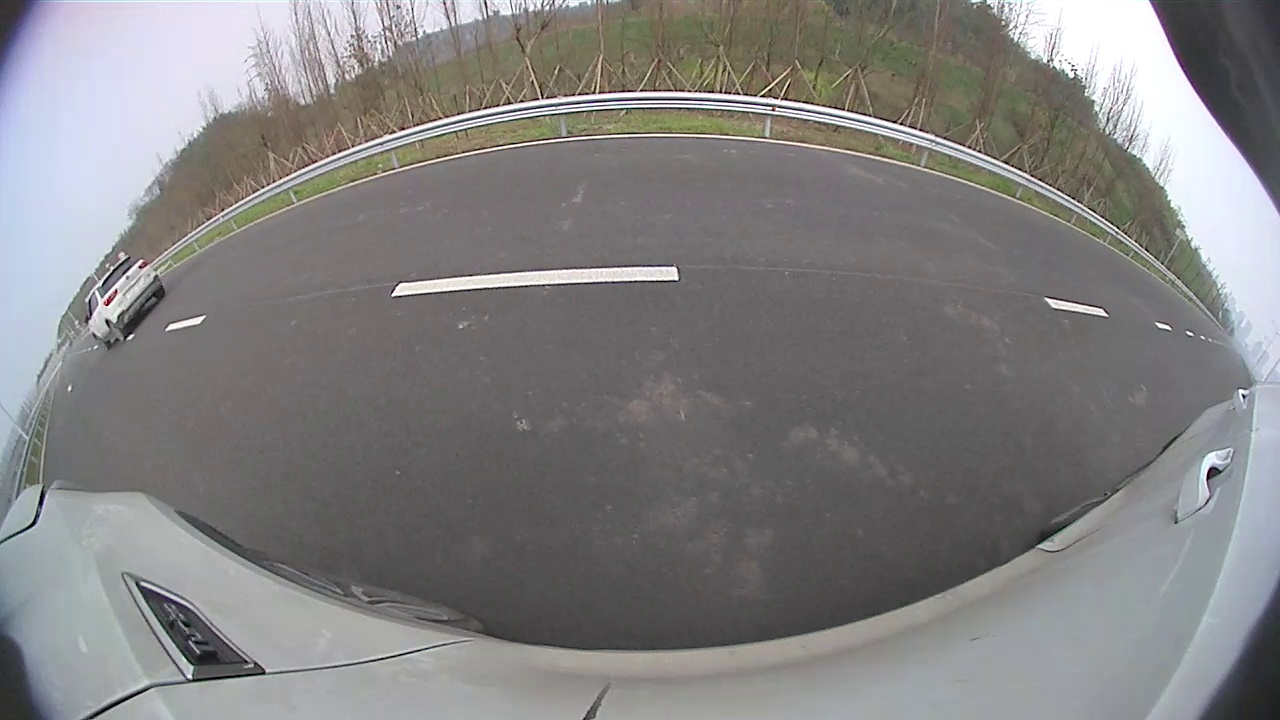car: (688, 140, 792, 203)
front: (690, 170, 704, 194)
rear: (716, 171, 734, 201)
